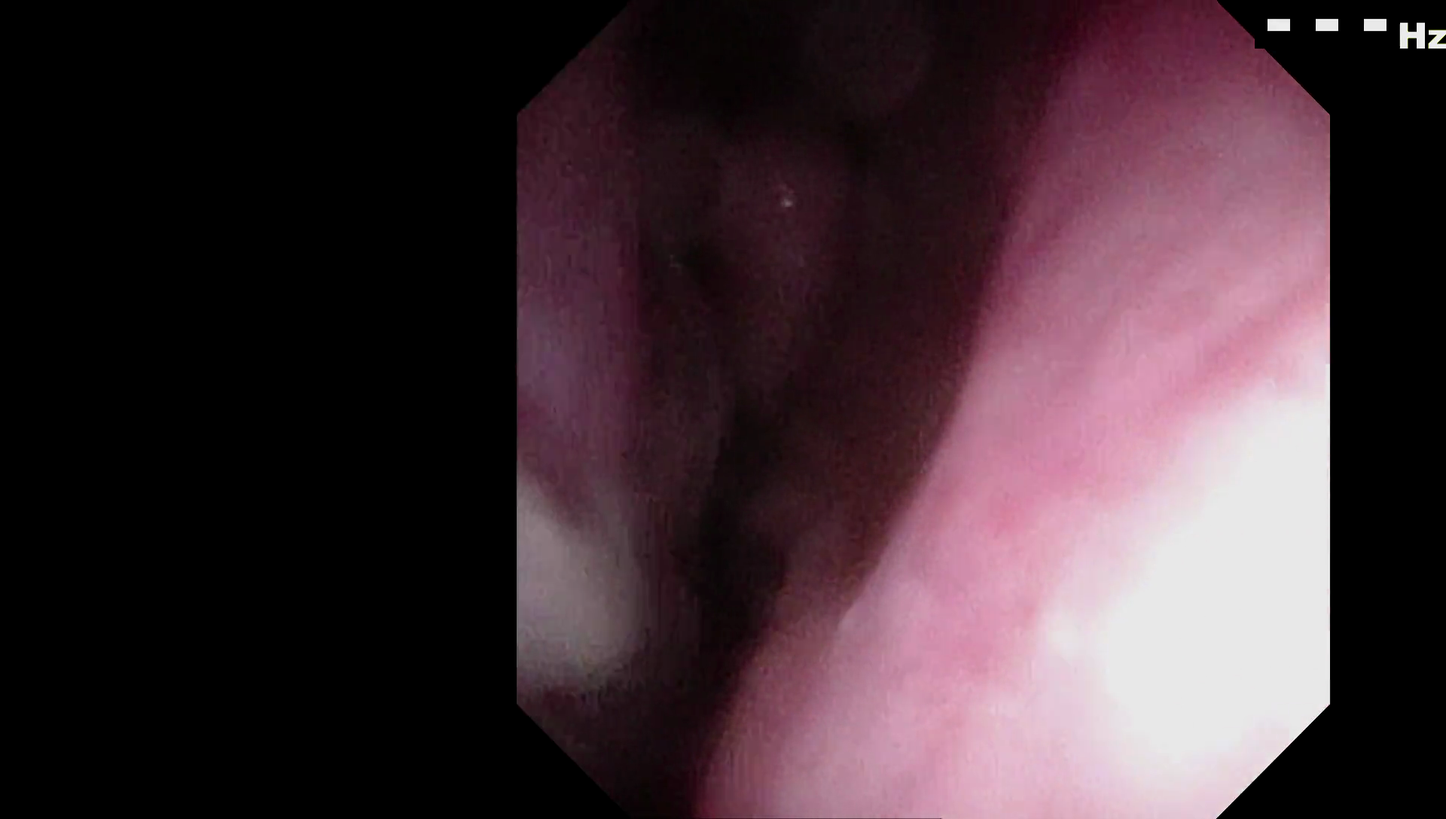close_wall: (883, 281, 1323, 708)
next: (635, 372, 821, 760), (801, 28, 1026, 249), (617, 2, 885, 162)
